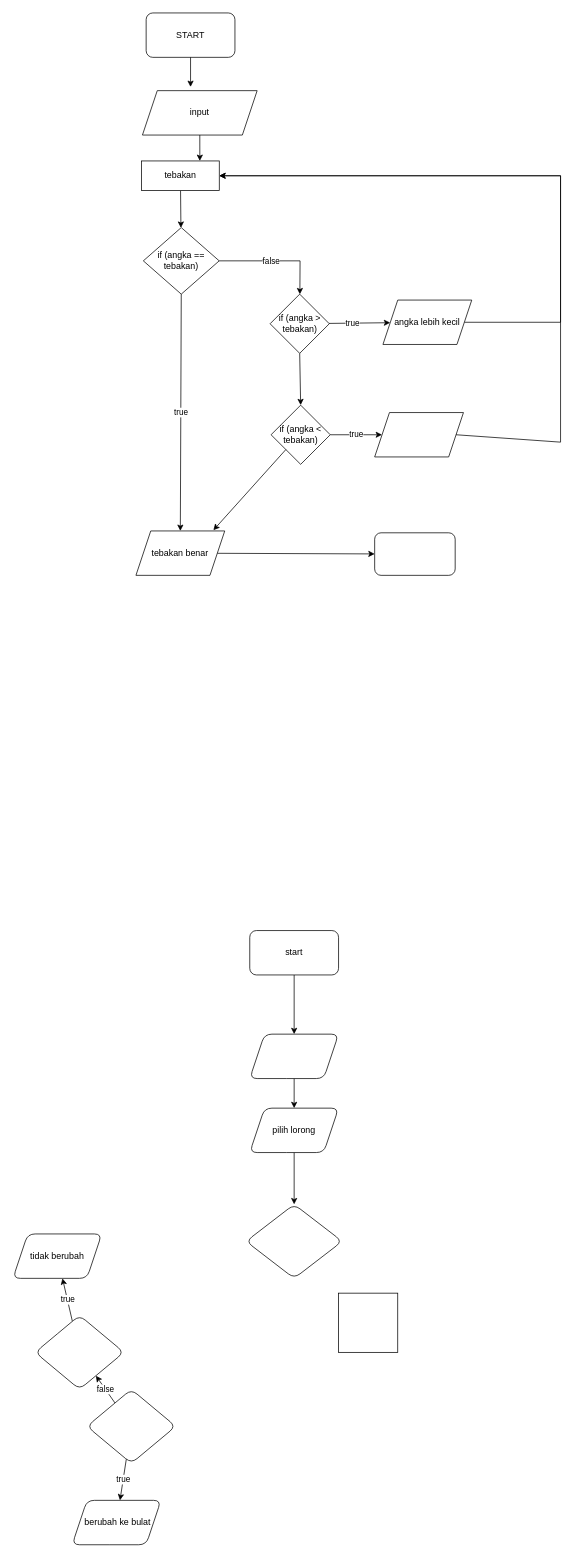
This 579x1558 diagram has some shape labels left out. Each missing label, with the box of its shape:
angka lebih besar: (374, 412, 463, 457)
FINISH: (374, 532, 455, 575)
if (balok == lingkaran): (34, 1315, 124, 1389)
if (balok == segitiga): (86, 1389, 176, 1463)
if (lorong == 1): (245, 1204, 342, 1278)
input balok: (249, 1033, 339, 1079)
